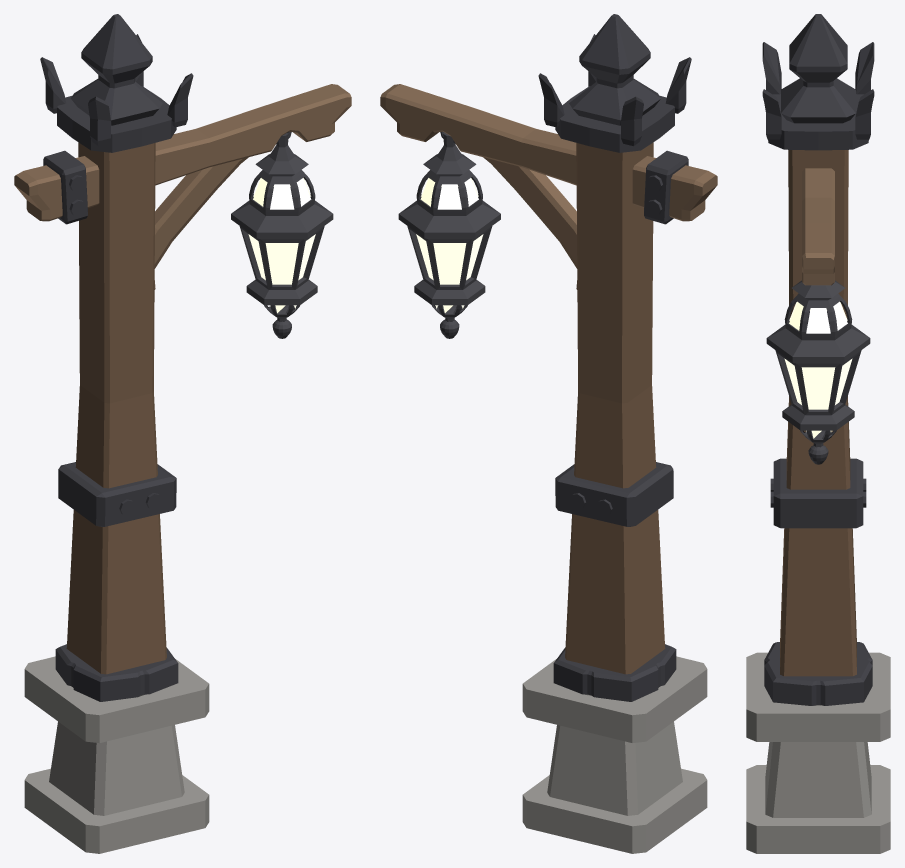
File: lamp_post.glb
3 views of the same model, side by side, from view 1: azimuth 30°, elevation 25°; view 2: azimuth 150°, elevation 25°; view 3: azimuth 270°, elevation 25° (orthographic).
Visible parts, largest first — view 1: Street_Lamp; view 2: Street_Lamp; view 3: Street_Lamp.
Boxes of the visible parts, x1=… form: Street_Lamp: x1=14, y1=14, x2=351, y2=853; Street_Lamp: x1=380, y1=14, x2=717, y2=853; Street_Lamp: x1=746, y1=14, x2=890, y2=853.
Bounding box in the file's own units: 1.83 × 4.33 × 0.7.
